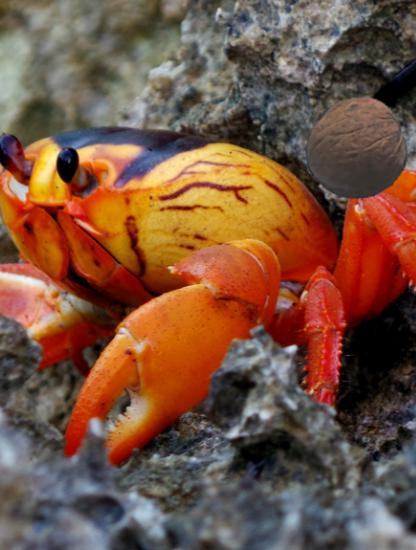Walnut: (304, 97, 410, 203)
